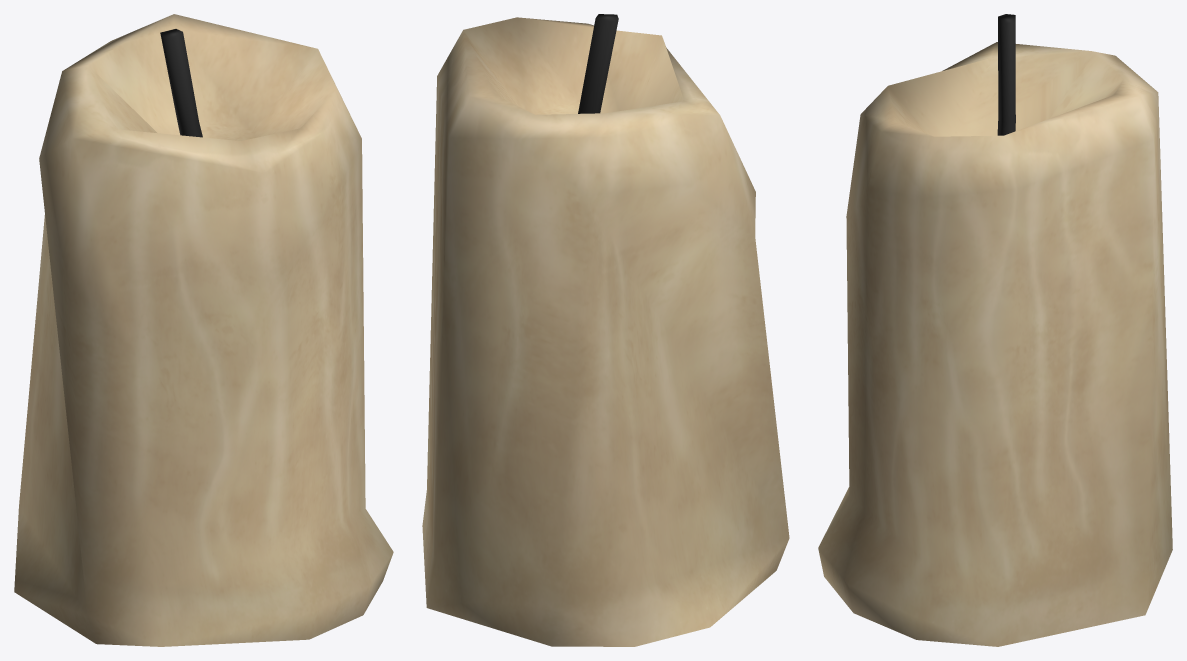
The model's file is SM_w_Candle.fbx.
The picture shows the model from 3 angles, left to right: view 1: azimuth 30°, elevation 25°; view 2: azimuth 150°, elevation 25°; view 3: azimuth 270°, elevation 25°; orthographic projection. The views are drawn at different scales.
Visible parts, largest first — view 1: Retopo_Cylinder.002; view 2: Retopo_Cylinder.002; view 3: Retopo_Cylinder.002.
Part boxes in pixels (x1,y1,x2,y2): Retopo_Cylinder.002: (14,14,393,646); Retopo_Cylinder.002: (422,14,789,646); Retopo_Cylinder.002: (818,14,1172,646).
Size of the model in its own units: 4.8 by 8 by 4.72.
